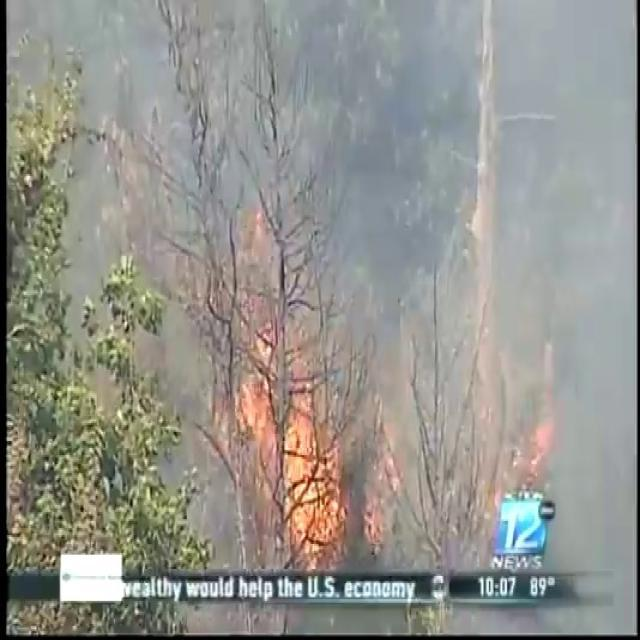Smoke: (30, 1, 628, 506)
